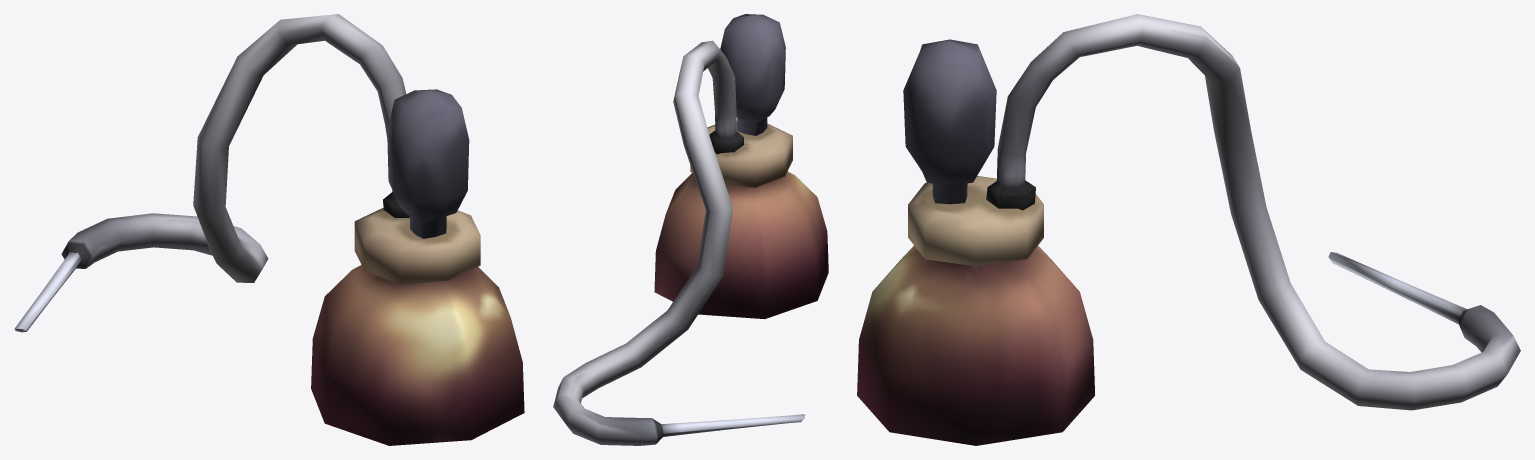
File: Ground_Tool_03.fbx
The picture shows the model from 3 angles, left to right: view 1: azimuth 30°, elevation 25°; view 2: azimuth 150°, elevation 25°; view 3: azimuth 270°, elevation 25°; orthographic projection. The views are drawn at different scales.
Visible parts, largest first — view 1: Cube.007; view 2: Cube.007; view 3: Cube.007.
Boxes of the visible parts, x1=… form: Cube.007: x1=14, y1=14, x2=524, y2=445; Cube.007: x1=553, y1=14, x2=828, y2=445; Cube.007: x1=857, y1=14, x2=1520, y2=445.
Bounding box in the file's own units: 0.2162 × 0.2122 × 0.3364.
